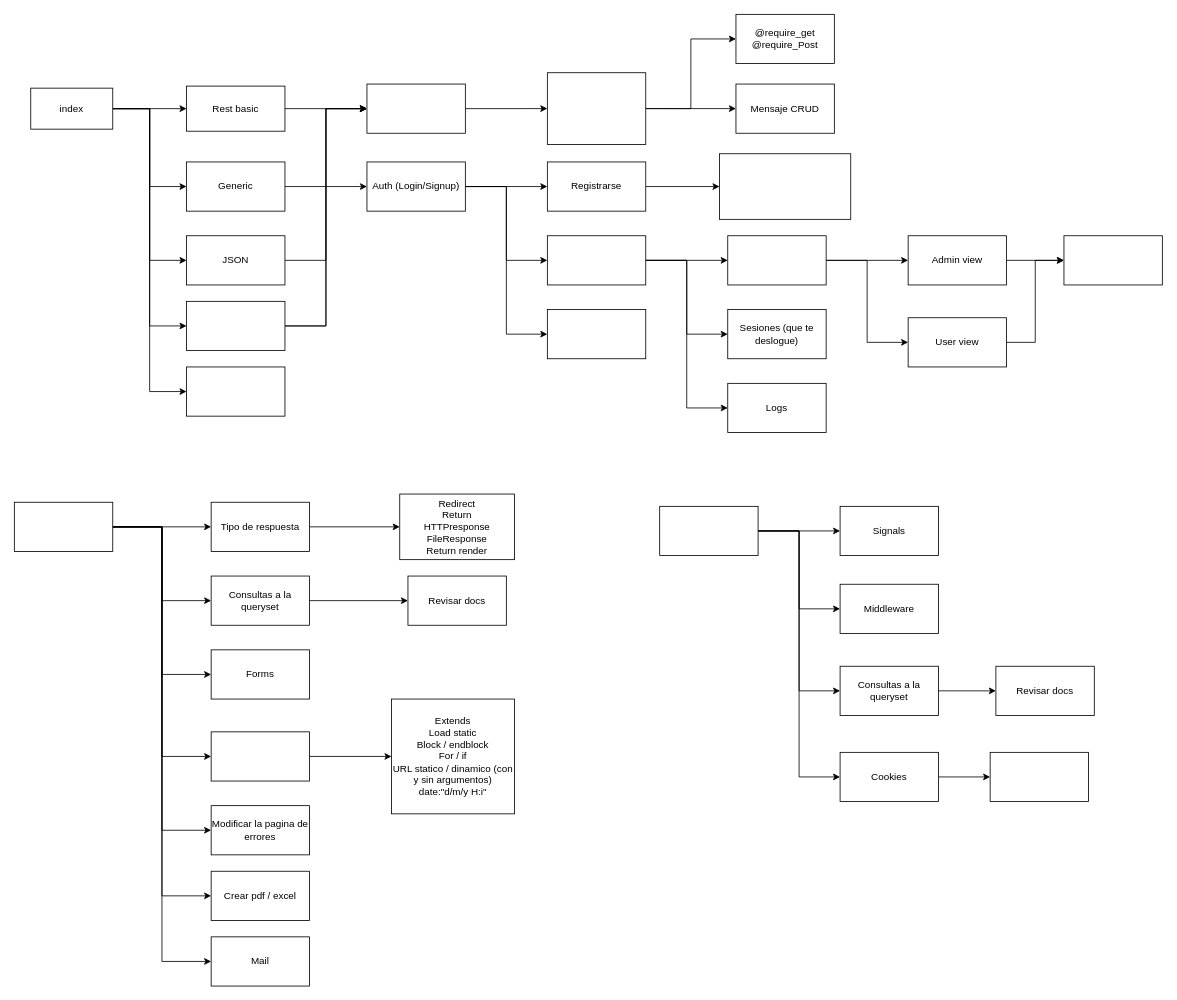
Some shapes in this 1177 by 1000 pixel diagram are drawn without their labels. Here are the shapes that lost their labels. From the top down, the centre of each, then its label:
(x=415, y=108): CRUD
(x=596, y=108): Ver Agregar Eliminar de verdad Eliminar con Bool Modificar Datos
(x=785, y=186): Seguridad: hash password Contraseñas de 8 a 14 caracteres con may,min y numero
(x=596, y=260): Iniciar sesion
(x=776, y=260): Permisos / roles
(x=1112, y=260): @Login_required @Permission
(x=235, y=326): Asgi
(x=596, y=334): Salir
(x=235, y=391): Rest avance
(x=63, y=526): Rest
(x=708, y=531): Rest avanzado
(x=260, y=756): Creacion de HTML
(x=1039, y=777): Modo oscuro
